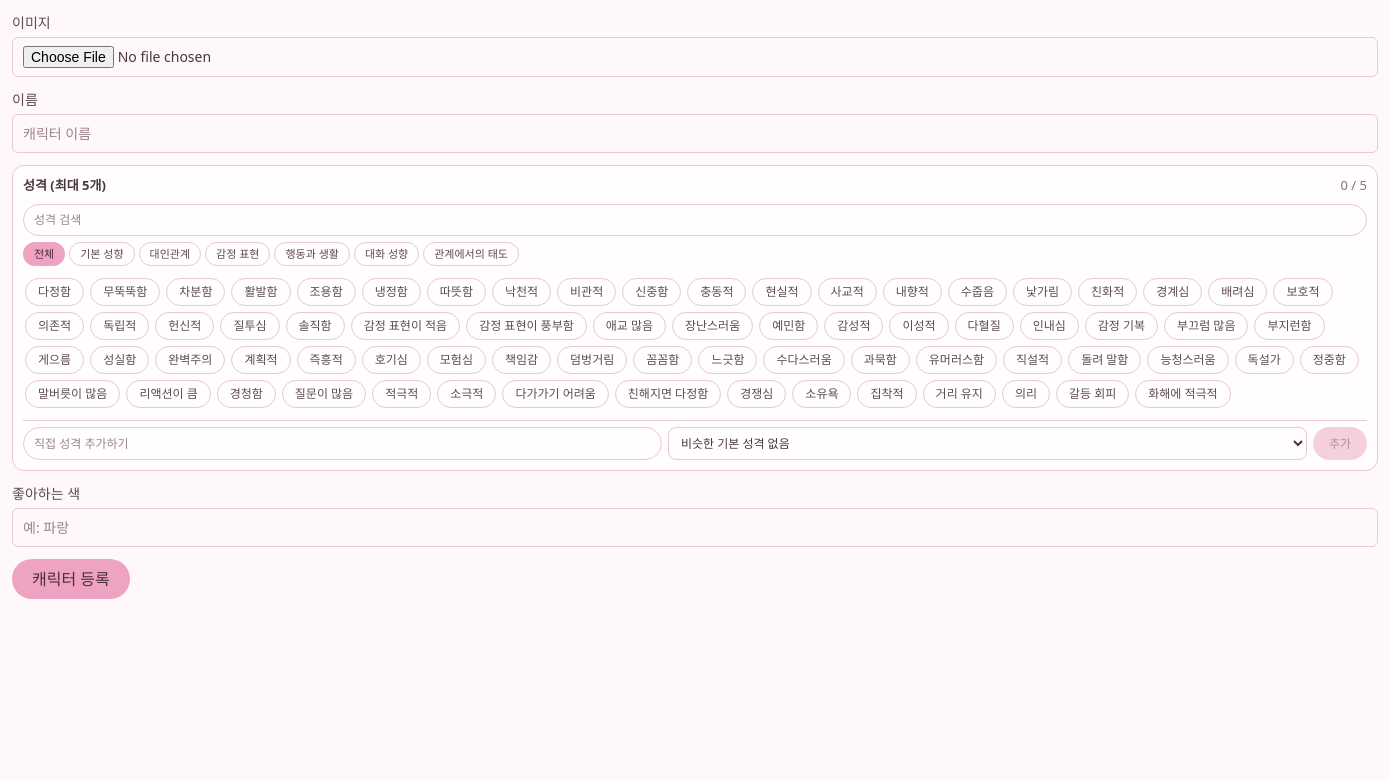
Test: CharacterForm › shows the full personality picker: search, category filter, 5-tag limit, and custom tags
Expected: the field with placeholder "성격 검색" is shown, [23,204,1367,236]
Expected: the button "대인관계" is shown, [139,242,201,266]
Click the button "활발함" at [261, 292], box [231,278,290,306]
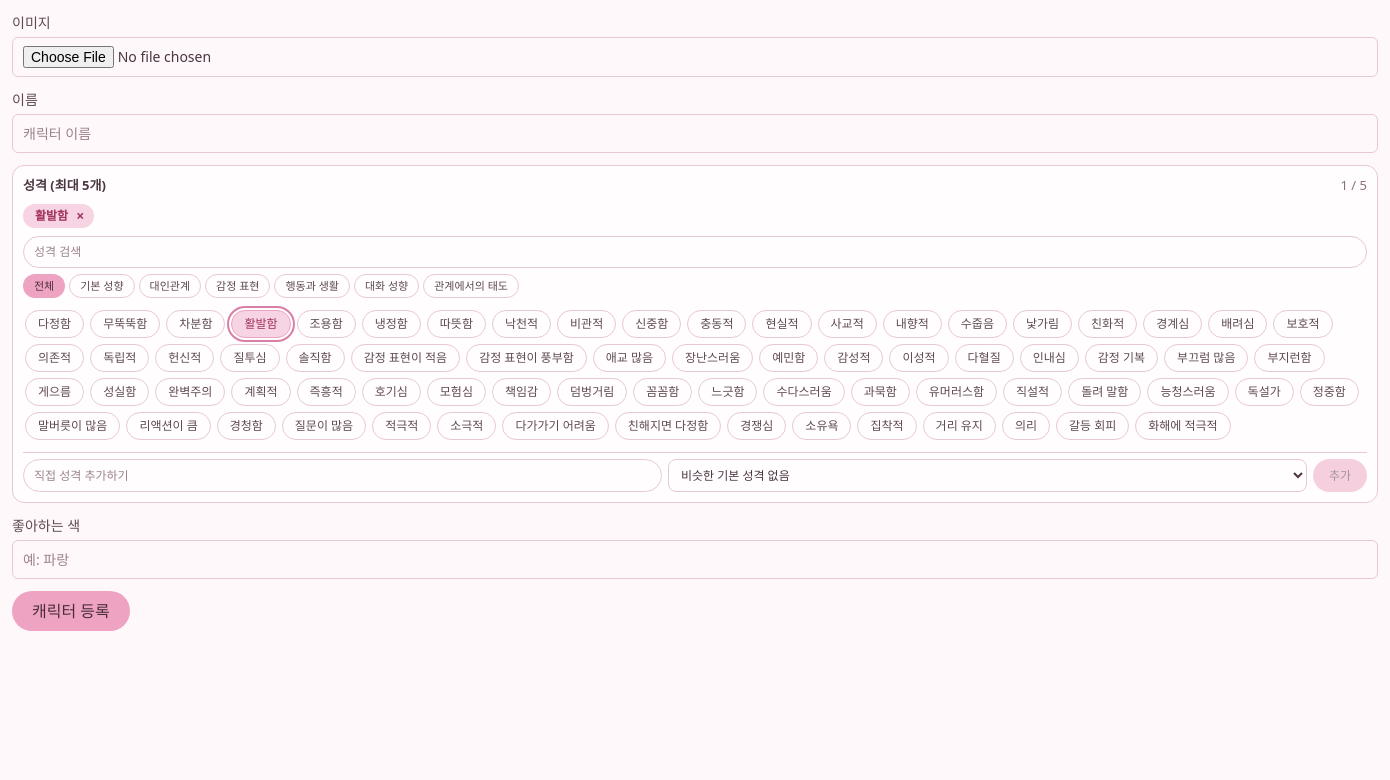
Click the button "다정함" at [55, 324], box [25,310,84,338]
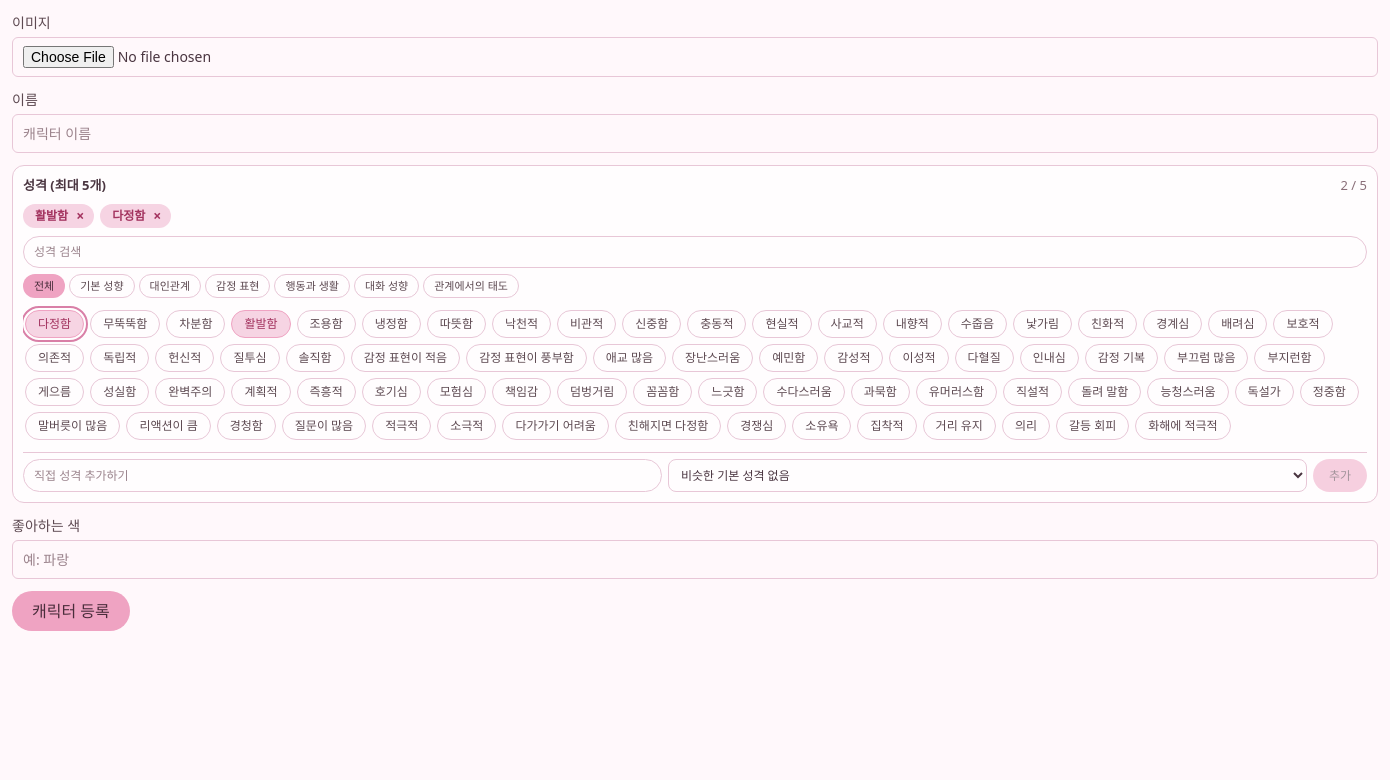
Click the button "차분함" at [196, 324], box [166,310,225,338]
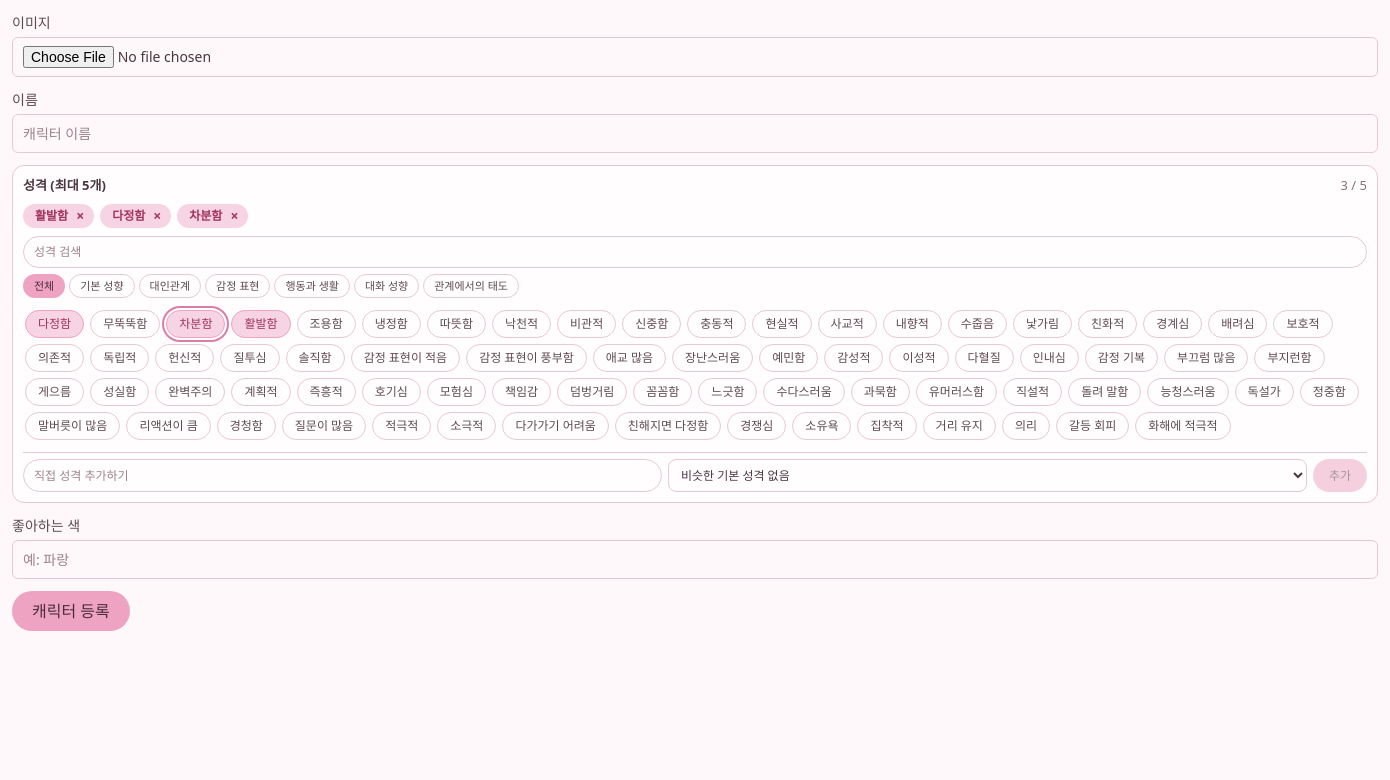
Click the button "사교적" at [847, 324], box [818,310,877,338]
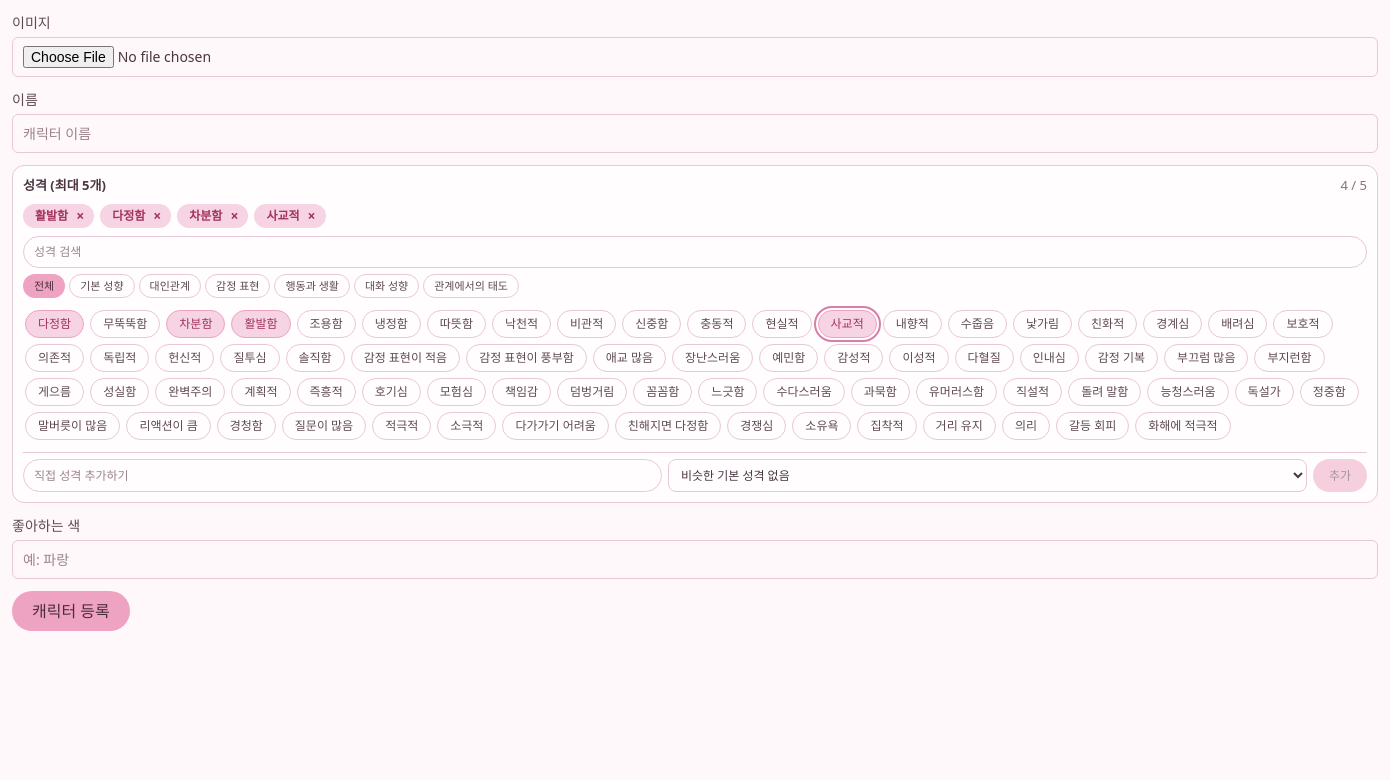
Click the button "수줍음" at [977, 324], box [948,310,1007,338]
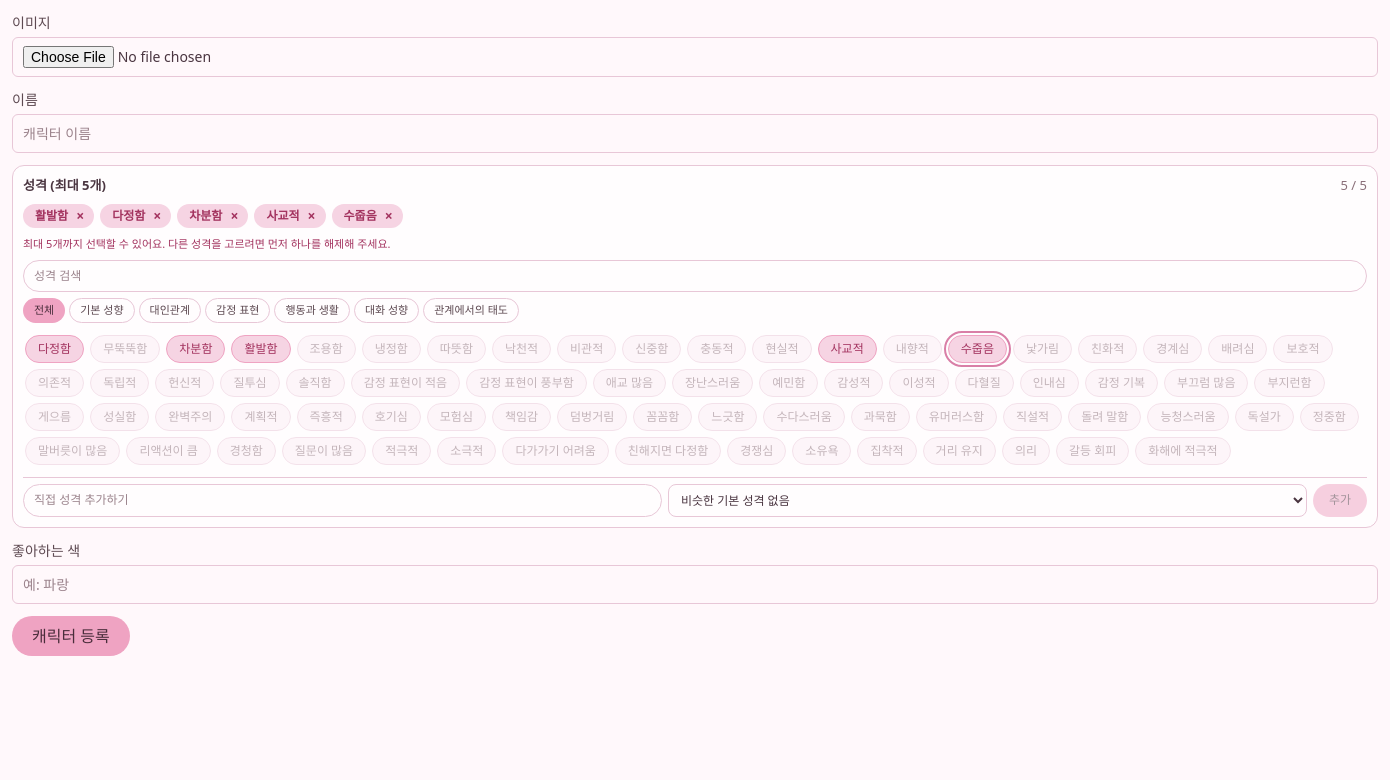
Expected: the text "5 / 5" is shown, [1340,176,1367,196]
Expected: the text "최대 5개까지 선택할 수 있어요. 다른 성격을 고르려면 먼저 하나를 해제해 주세요." is shown, [23,236,390,250]
Expected: the button "무뚝뚝함" is disabled, [90,334,160,362]
Click the button named "활발함 제거" at [80, 216], box [72,206,88,224]
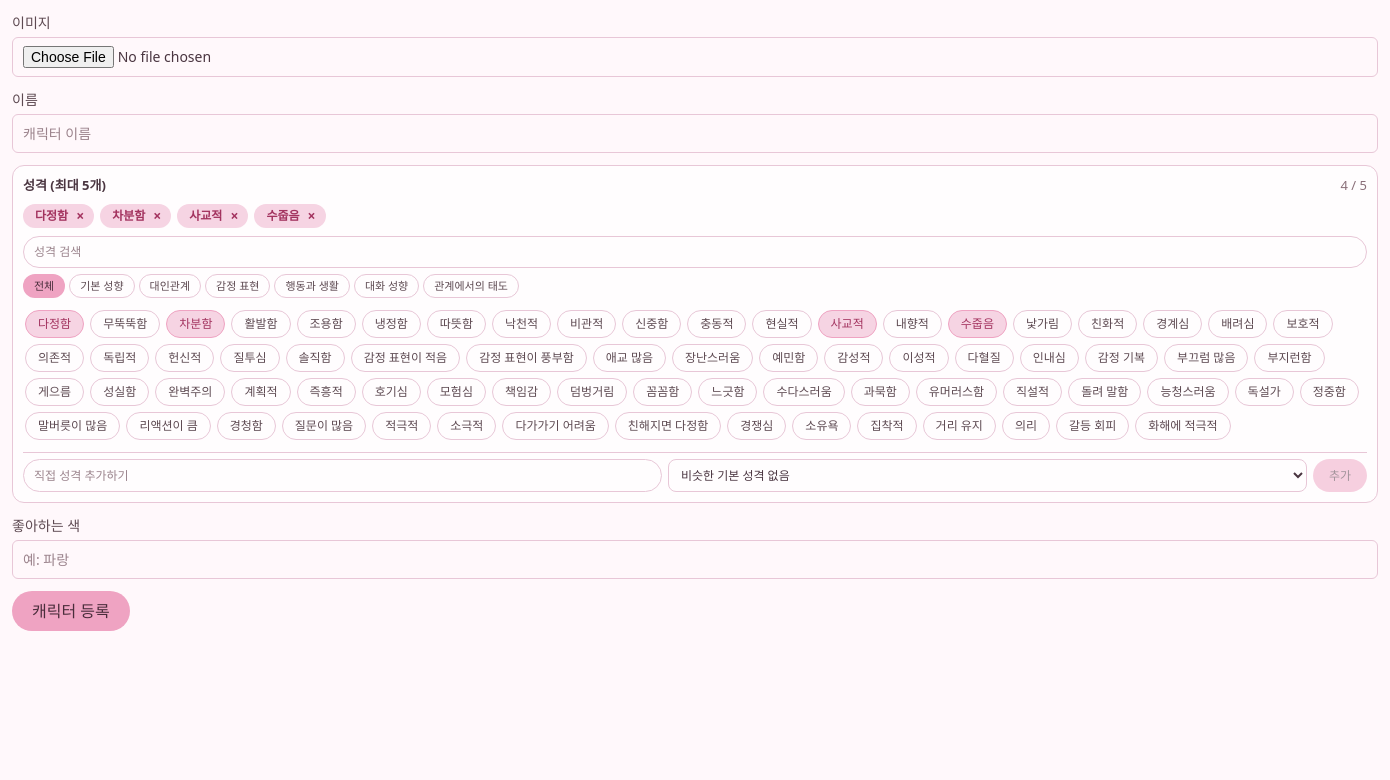
Expected: the text "4 / 5" is shown, [1340,176,1367,196]
Expected: the button "무뚝뚝함" is enabled, [90,310,160,338]
